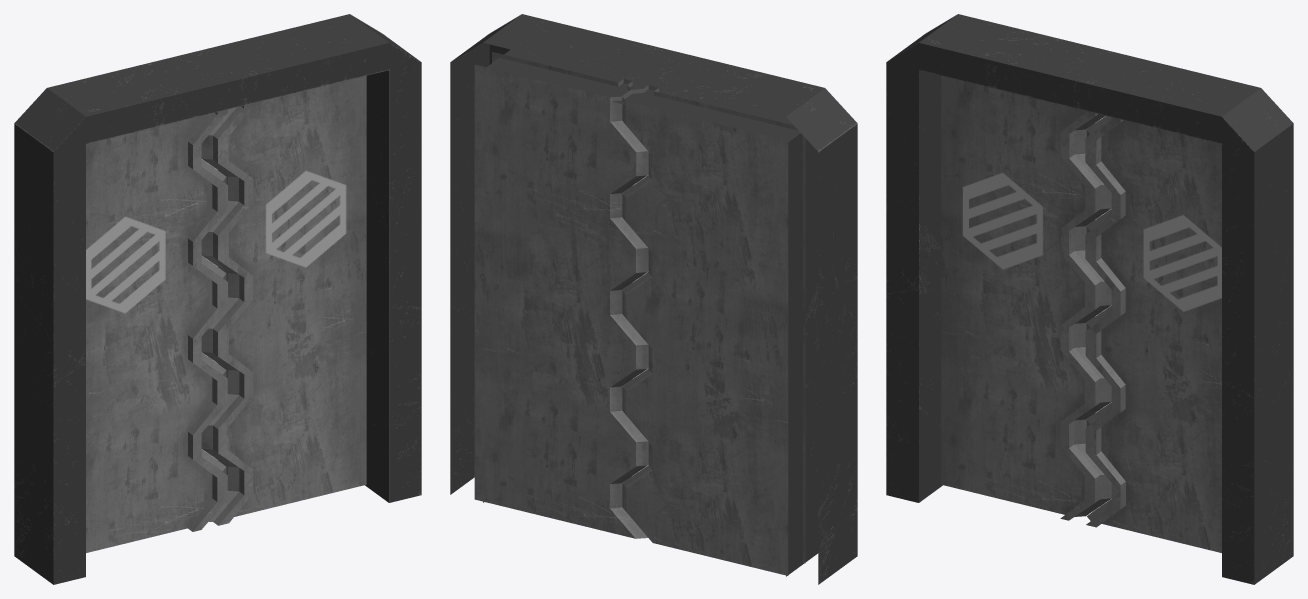
File: enemy door.fbx
3 views of the same model, side by side, from view 1: azimuth 30°, elevation 25°; view 2: azimuth 150°, elevation 25°; view 3: azimuth 330°, elevation 25° (orthographic).
Visible parts, largest first — view 1: enemy door, enemy door 2, enemy door 1; view 2: enemy door 2, enemy door 1, enemy door; view 3: enemy door, enemy door 1, enemy door 2.
Boxes of the visible parts, box(x1,y1,x2,y2) form: enemy door: box(14, 14, 421, 584); enemy door 2: box(201, 75, 366, 525); enemy door 1: box(86, 109, 227, 552); enemy door 2: box(474, 52, 648, 538); enemy door 1: box(622, 85, 805, 575); enemy door: box(450, 14, 857, 584); enemy door: box(886, 14, 1293, 584); enemy door 1: box(941, 75, 1111, 520); enemy door 2: box(1085, 116, 1221, 552).
Size of the model in its own units: 613 by 733 by 115.
